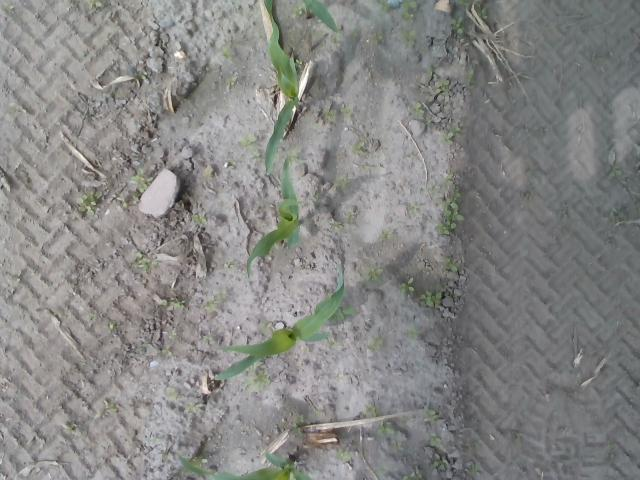Maize: (212, 262, 347, 382), (245, 154, 308, 274), (262, 0, 303, 173), (174, 450, 314, 480), (298, 0, 339, 32)
Weeds: (434, 172, 465, 236), (78, 190, 105, 216), (130, 167, 152, 193), (429, 64, 449, 92), (128, 250, 150, 273), (240, 133, 261, 156), (439, 125, 463, 145), (400, 0, 418, 26), (244, 374, 270, 392), (418, 288, 441, 305), (364, 264, 386, 281), (400, 29, 418, 48), (448, 15, 464, 36), (160, 300, 186, 312), (185, 400, 205, 414), (334, 307, 354, 320), (604, 165, 624, 178), (433, 452, 446, 472), (102, 399, 119, 414), (400, 276, 414, 294), (424, 406, 438, 424), (378, 420, 394, 435), (102, 320, 118, 335), (375, 0, 390, 15), (193, 210, 207, 226), (288, 148, 304, 162), (402, 469, 422, 480), (351, 142, 366, 156), (369, 31, 383, 46), (466, 462, 481, 476), (467, 62, 477, 82), (290, 412, 304, 426), (476, 4, 488, 20), (191, 456, 208, 467), (261, 319, 271, 336), (447, 255, 457, 272), (370, 337, 384, 349), (362, 404, 376, 416), (87, 0, 103, 10), (132, 70, 148, 80), (223, 258, 236, 270), (411, 102, 424, 114), (429, 433, 441, 446), (338, 451, 353, 461), (294, 3, 304, 17), (225, 77, 238, 87), (222, 48, 232, 61), (207, 301, 218, 312), (312, 190, 320, 204), (338, 106, 352, 114), (332, 32, 342, 43), (325, 111, 336, 121), (203, 333, 214, 343), (381, 230, 393, 239), (294, 58, 303, 70), (216, 289, 226, 299), (407, 327, 418, 336), (458, 0, 470, 8), (328, 338, 337, 347), (334, 222, 344, 230), (88, 313, 96, 321)
